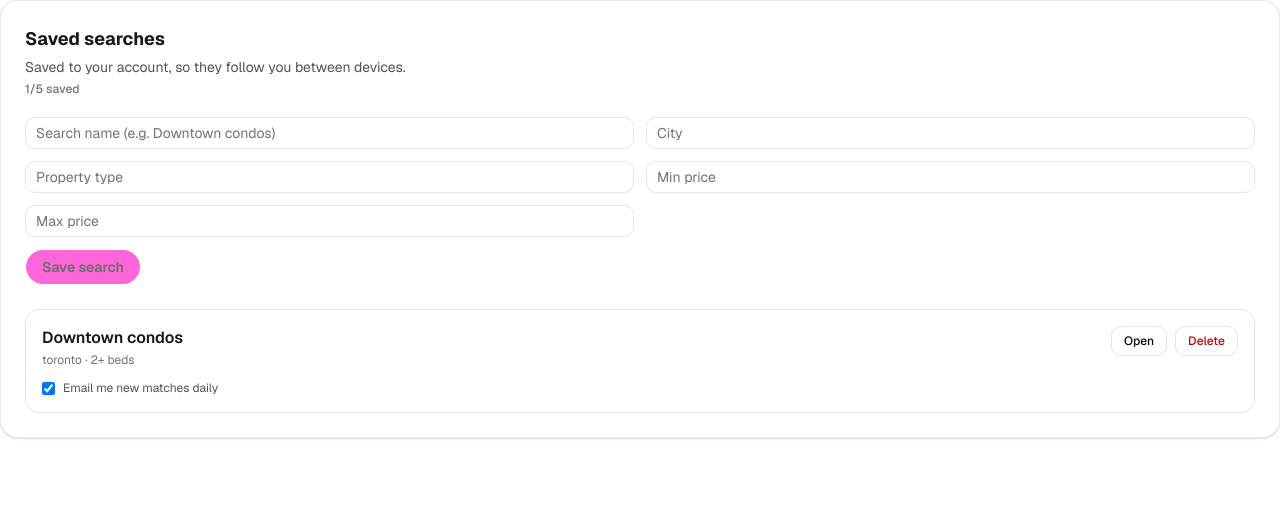
pausing says the search is kept
Click the checkbox labelled "Email me new matches daily": (48, 388) [42,382,55,394]
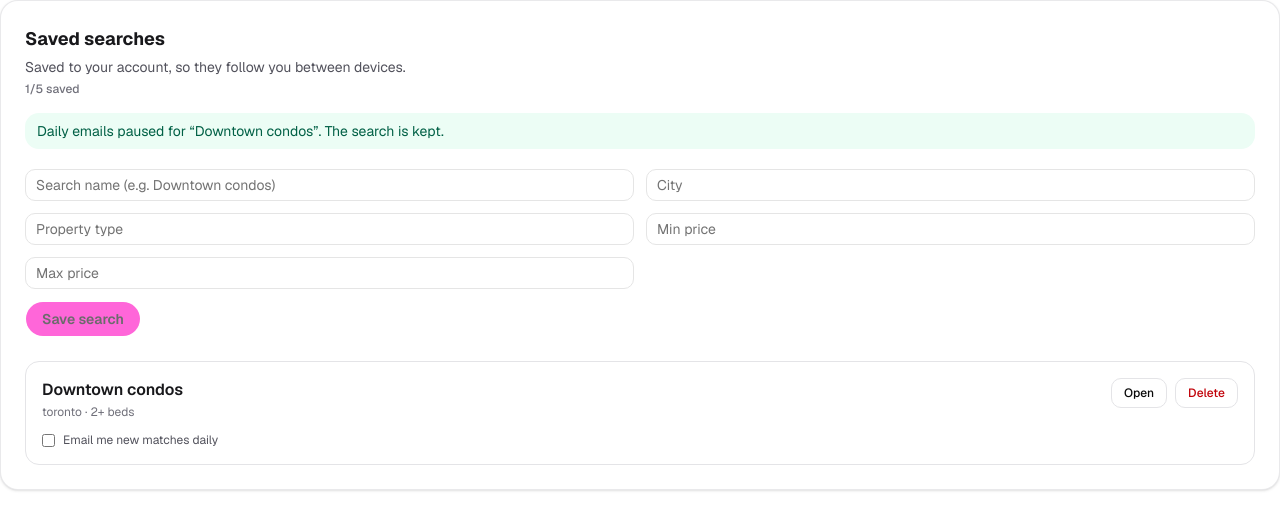
Now the message shows "The search is kept", box [37,122,444,140]
